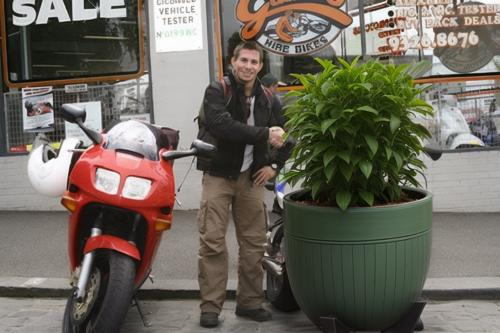motorbike: (265, 121, 443, 333), (59, 105, 217, 333), (432, 95, 487, 150)
person: (196, 40, 290, 330)
person/foot: (234, 308, 273, 321), (199, 313, 219, 327)
person/hand: (253, 167, 276, 187), (270, 127, 287, 145)
person/head: (232, 42, 263, 83)
pottedplant: (283, 55, 433, 330)
